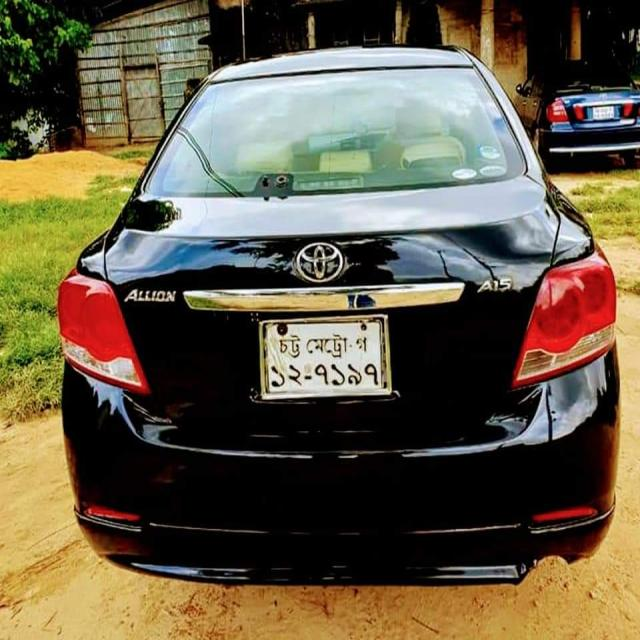black: (63, 69, 622, 571), (536, 38, 640, 170)
